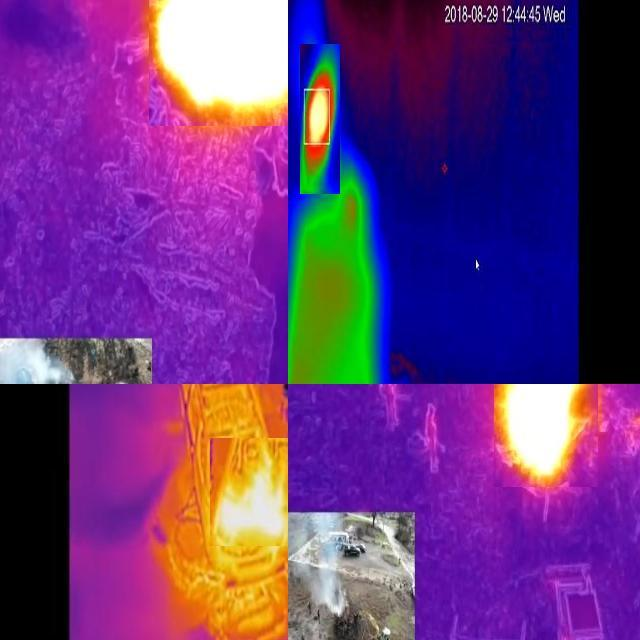fire: (149, 1, 289, 126), (494, 385, 598, 487), (210, 438, 289, 546), (300, 44, 340, 194)
